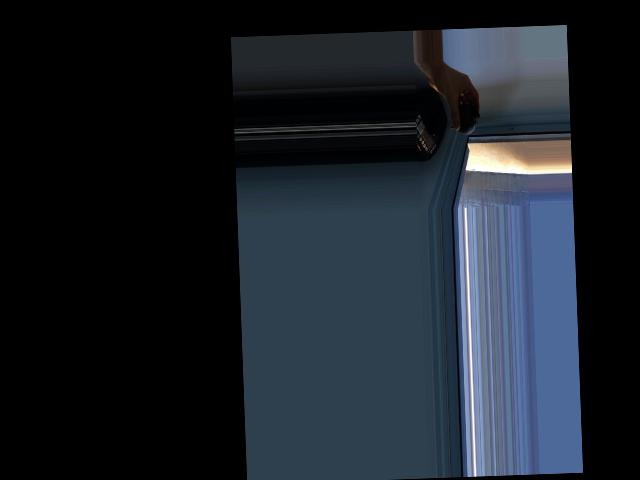beet: (448, 100, 480, 135)
